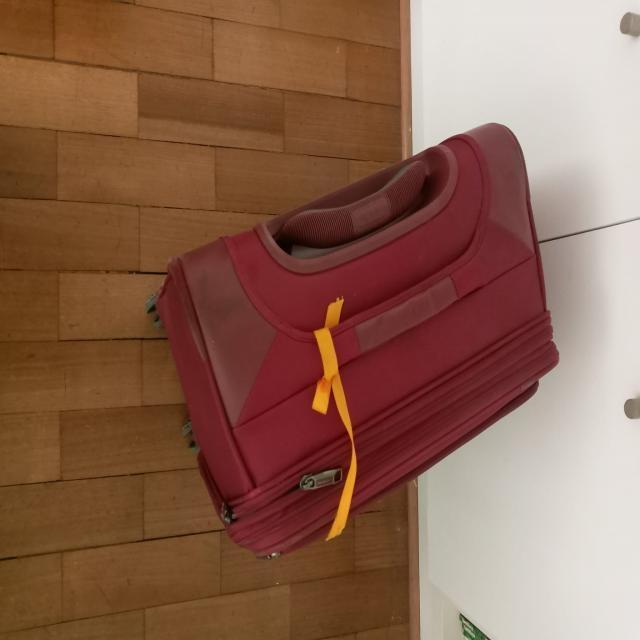Suitcase: (151, 121, 563, 562)
